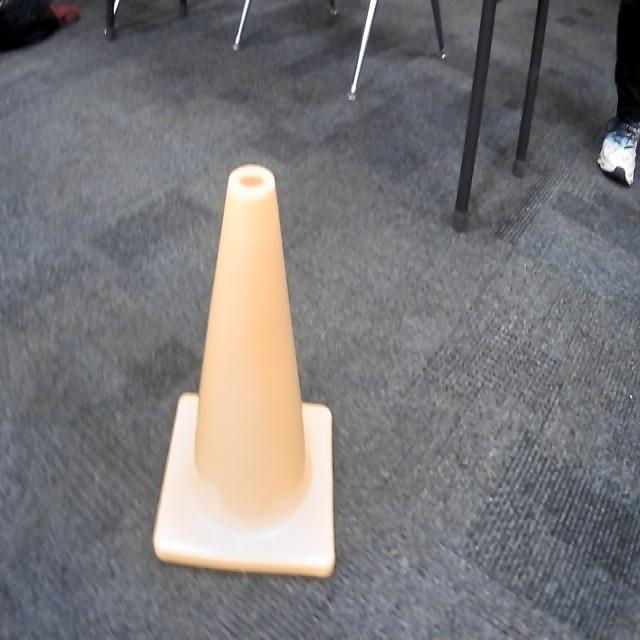cone: (150, 158, 342, 582)
